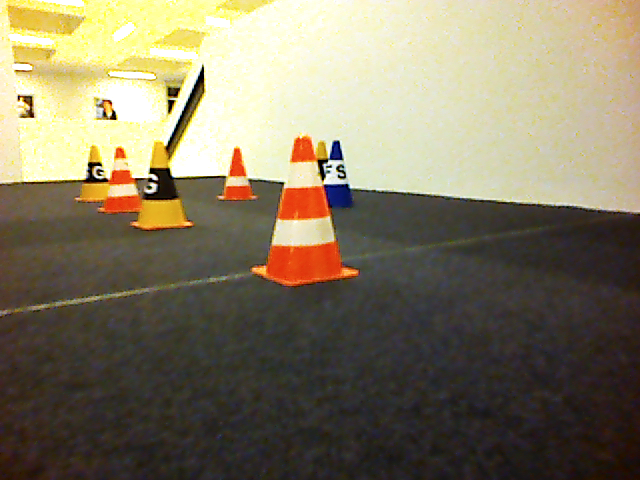orangeconesmall: (248, 131, 360, 287), (98, 147, 142, 213)
yellowcone: (130, 140, 195, 232), (75, 145, 109, 202)
